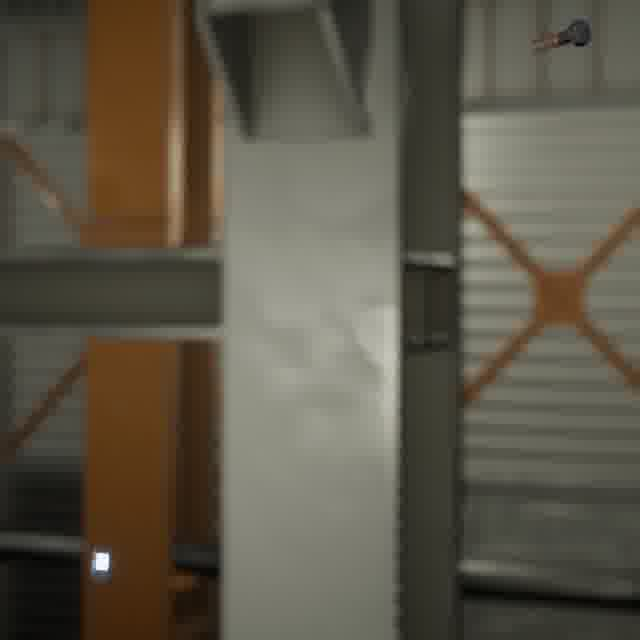bolt: (526, 15, 595, 57)
nut: (87, 543, 114, 586)
